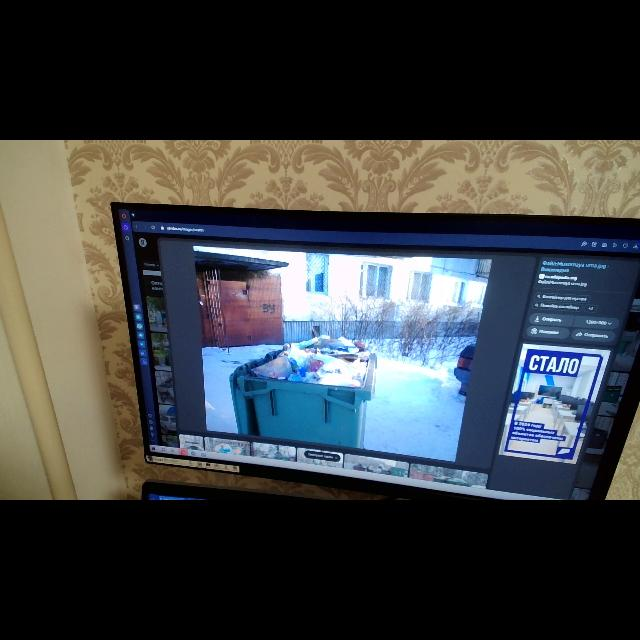Trash_Can_Full: (239, 347, 376, 450)
